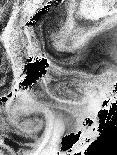CE: (10, 103, 52, 144)
